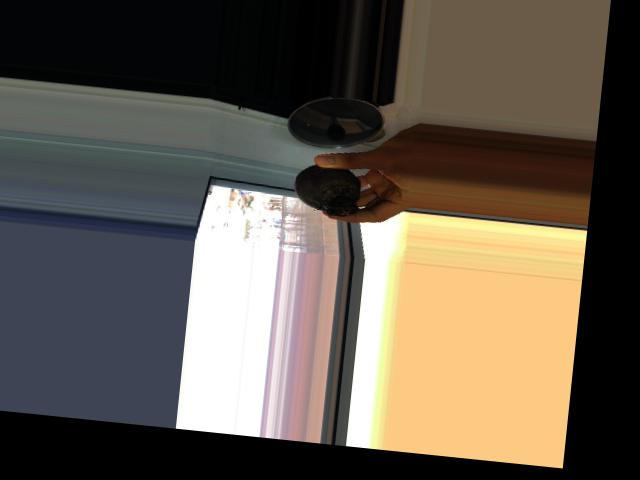beet: (291, 161, 381, 220)
